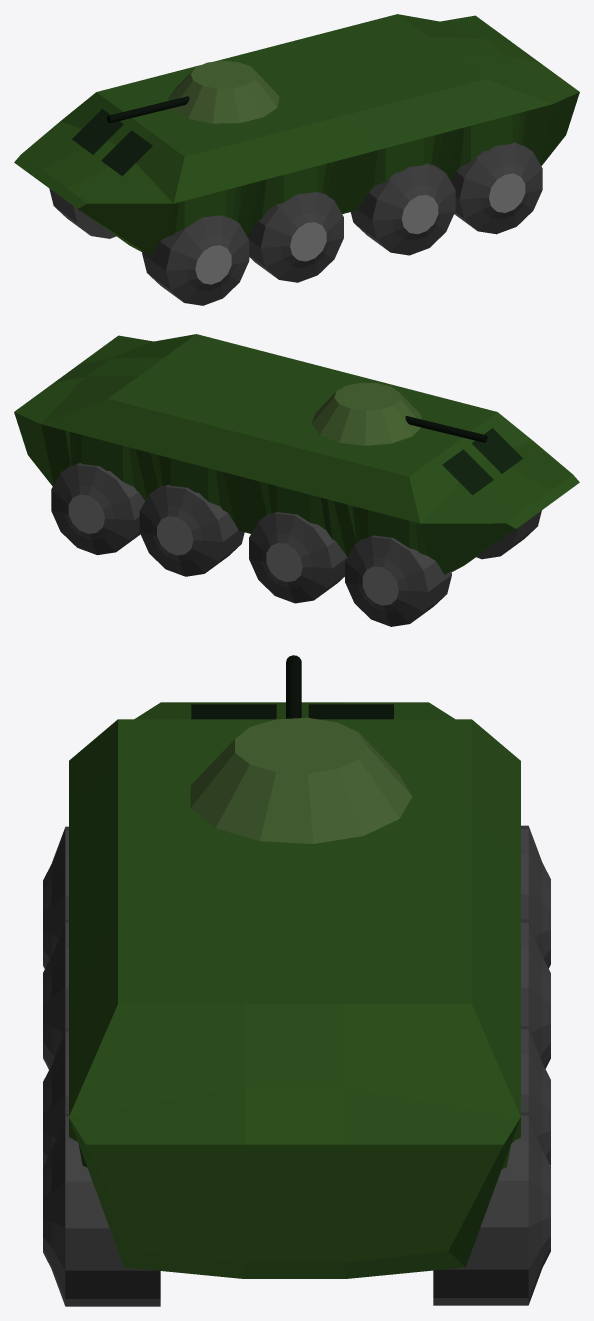
Rendered from btr.fbx.
3 views of the same model, one above another, from view 1: azimuth 30°, elevation 25°; view 2: azimuth 150°, elevation 25°; view 3: azimuth 270°, elevation 25° (orthographic). The views are drawn at different scales.
Parts seen in each view (by area): view 1: Cube, Cylinder.006, Cylinder.008, Cylinder.007, Cylinder.009, Cylinder, Plane.001, Plane, Cylinder.002, Cylinder.001; view 2: Cube, Cylinder.002, Cylinder.004, Cylinder.003, Cylinder.005, Cylinder, Plane, Plane.001, Cylinder.006, Cylinder.001; view 3: Cube, Cylinder, Cylinder.005, Cylinder.009, Cylinder.003, Cylinder.002, Cylinder.007, Cylinder.004, Cylinder.006, Cylinder.008, Plane.001, Plane (+1 smaller).
Boxes of the visible parts, x1,y1,x2,y2 form: Cube: [14, 14, 579, 255]; Cylinder.006: [142, 215, 249, 305]; Cylinder.008: [350, 163, 455, 255]; Cylinder.007: [247, 192, 343, 282]; Cylinder.009: [450, 142, 542, 234]; Cylinder: [168, 60, 279, 123]; Plane.001: [101, 130, 152, 176]; Plane: [72, 109, 123, 154]; Cylinder.002: [49, 188, 116, 238]; Cylinder.001: [107, 96, 189, 123]; Cube: [14, 334, 579, 574]; Cylinder.002: [345, 535, 451, 626]; Cylinder.004: [139, 484, 244, 576]; Cylinder.003: [249, 512, 347, 603]; Cylinder.005: [51, 462, 144, 555]; Cylinder: [311, 382, 421, 445]; Plane: [442, 449, 493, 495]; Plane.001: [471, 428, 522, 473]; Cylinder.006: [476, 510, 541, 559]; Cylinder.001: [405, 416, 487, 442]; Cube: [69, 702, 520, 1278]; Cylinder: [190, 717, 412, 843]; Cylinder.005: [433, 1112, 550, 1305]; Cylinder.009: [43, 1113, 160, 1306]; Cylinder.003: [521, 919, 550, 1068]; Cylinder.002: [521, 825, 550, 968]; Cylinder.007: [43, 919, 68, 1069]; Cylinder.004: [521, 1026, 550, 1165]; Cylinder.006: [43, 826, 68, 968]; Cylinder.008: [43, 1028, 68, 1166]; Plane.001: [191, 704, 276, 719]; Plane: [308, 704, 393, 719].
Bounding box in the file's own units: 644 × 215 × 294.
